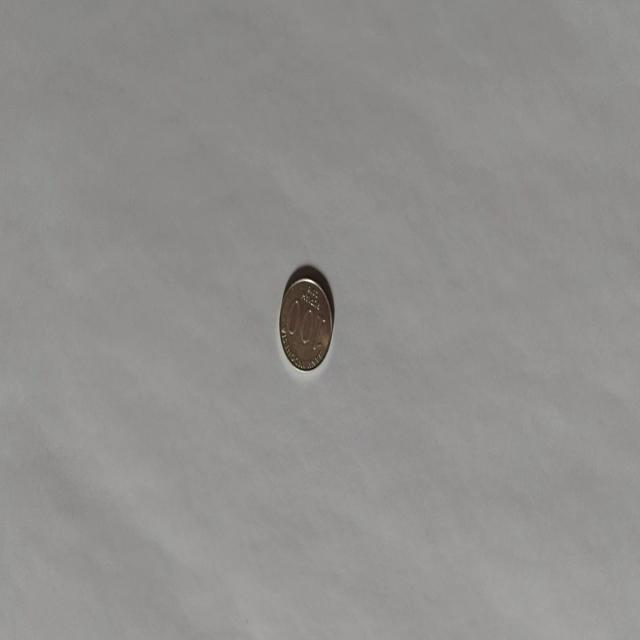seratus rupiah: (278, 274, 333, 372)
